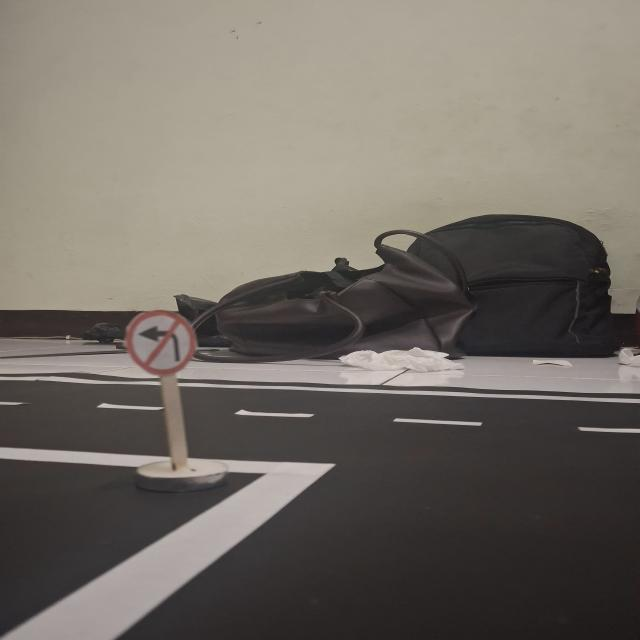Dilarang Belok Kiri: (125, 309, 195, 376)
